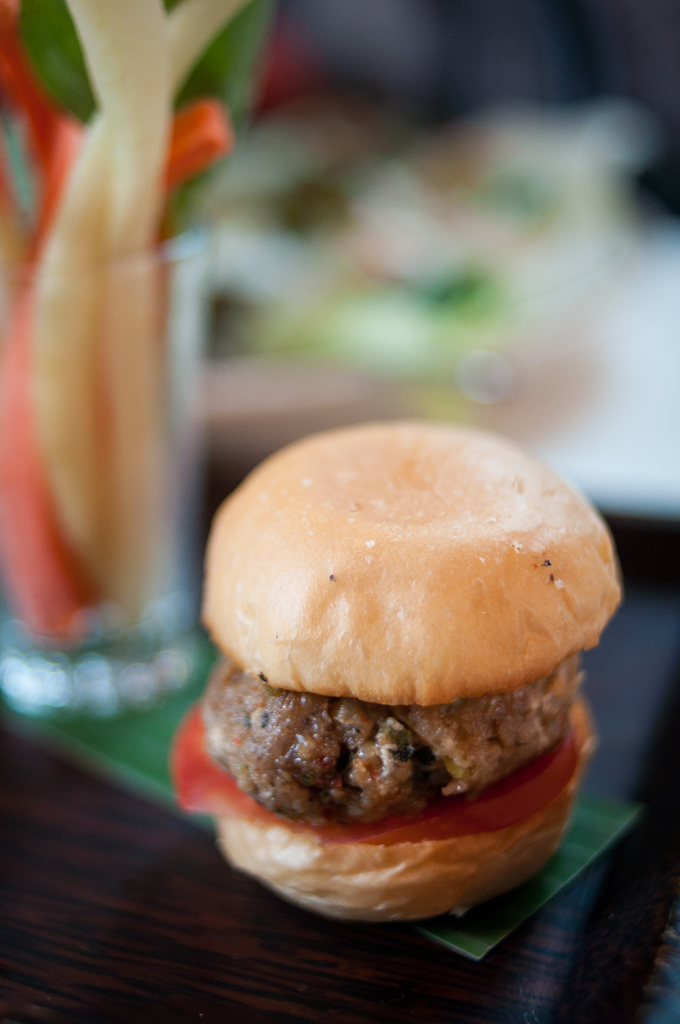Hamburger: (174, 425, 623, 919)
